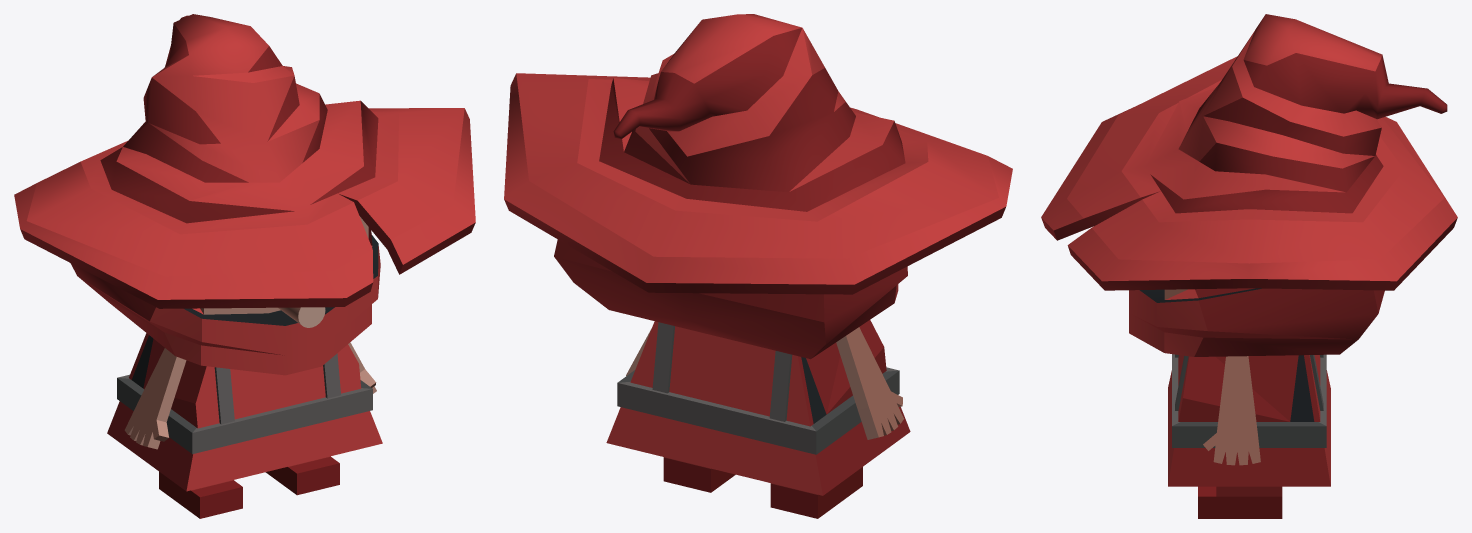
3 renders of one model, left to right at view 1: azimuth 30°, elevation 25°; view 2: azimuth 150°, elevation 25°; view 3: azimuth 270°, elevation 25°, orthographic. The views are drawn at different scales.
Visible parts, largest first — view 1: Ch_240_Head, Ch_240, Ch_240_Arm_L, Ch_240_Leg_L, Ch_240_Leg_R; view 2: Ch_240_Head, Ch_240, Ch_240_Arm_L, Ch_240_Leg_L, Ch_240_Leg_R; view 3: Ch_240_Head, Ch_240, Ch_240_Arm_R, Ch_240_Leg_R.
Part boxes in pixels (box(x1,y1,x2,y2)): Ch_240_Head: box(14, 14, 475, 375); Ch_240: box(107, 333, 382, 491); Ch_240_Arm_L: box(124, 348, 186, 449); Ch_240_Leg_L: box(159, 471, 242, 518); Ch_240_Leg_R: box(265, 456, 339, 495); Ch_240_Head: box(504, 14, 1012, 359); Ch_240: box(606, 320, 910, 495); Ch_240_Arm_L: box(836, 327, 903, 439); Ch_240_Leg_L: box(770, 467, 862, 518); Ch_240_Leg_R: box(663, 457, 735, 492); Ch_240_Head: box(1041, 14, 1457, 356); Ch_240: box(1168, 354, 1330, 486); Ch_240_Arm_R: box(1203, 356, 1260, 465); Ch_240_Leg_R: box(1198, 486, 1282, 518).
Size of the model in its own units: 13.03 by 12.25 by 10.19.
